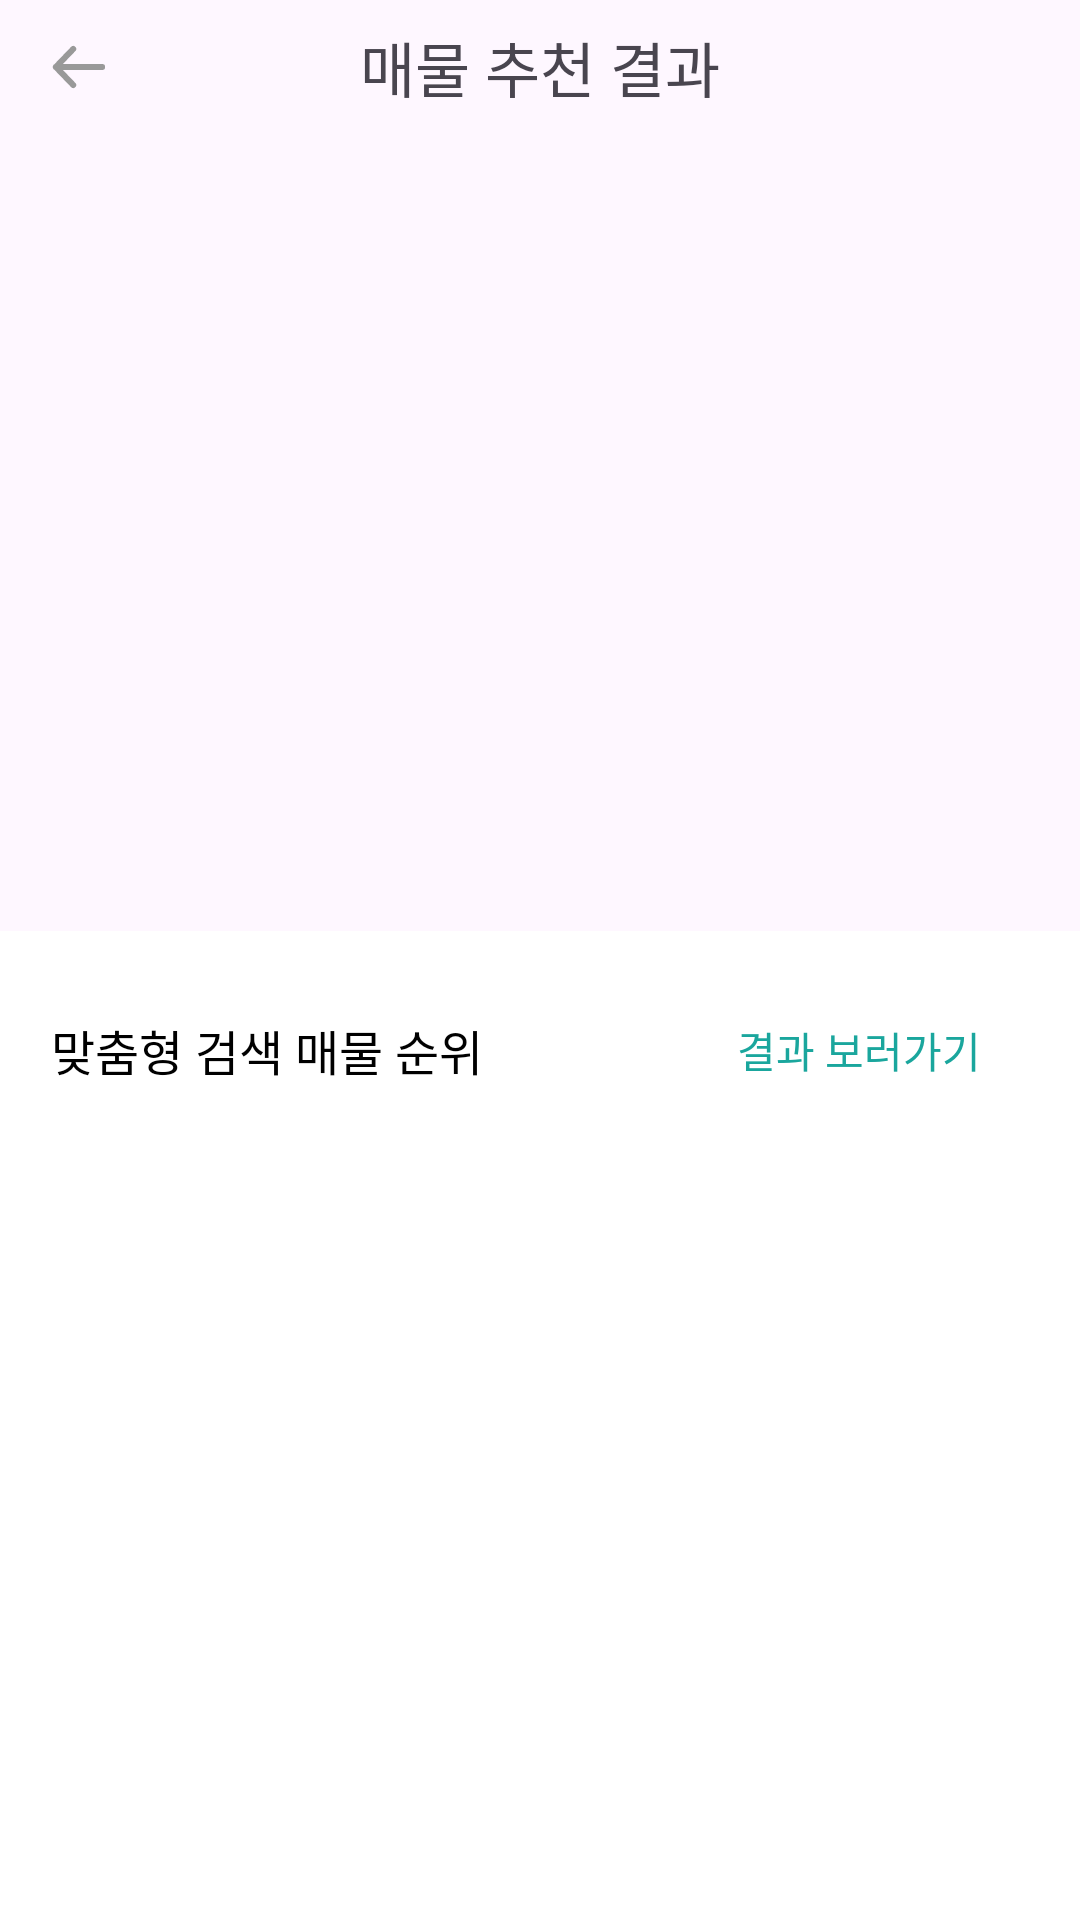

Where to tap for icons on this 1080*1920 app screen, as point (x, y):
back: point (79, 67)
